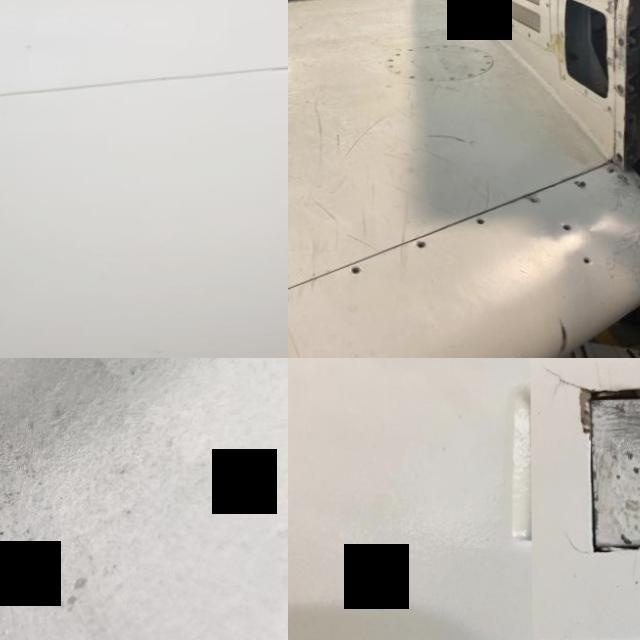Crack: (529, 358, 640, 640)
Missing_Fastener: (412, 240, 428, 250), (348, 266, 364, 276), (472, 220, 491, 228), (580, 258, 594, 268), (561, 225, 572, 233), (606, 170, 614, 176), (634, 185, 640, 191)
